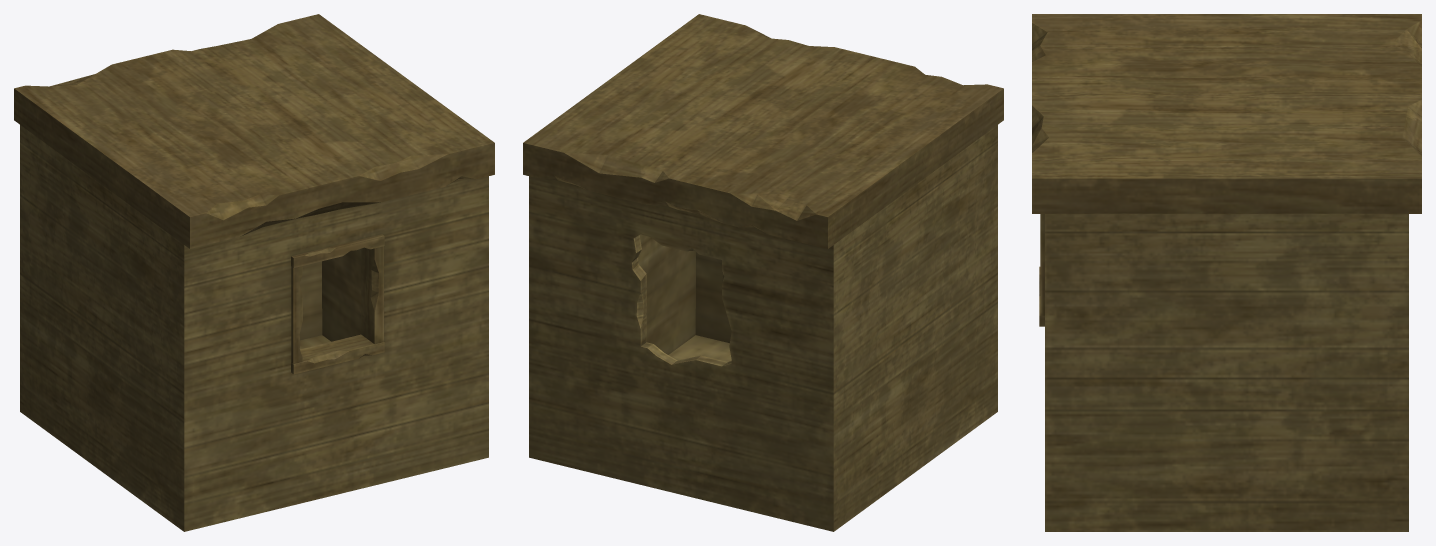
File: sb_obj_outdoor029_house03_wall03_ruins.fbx
3 views of the same model, side by side, from view 1: azimuth 30°, elevation 25°; view 2: azimuth 150°, elevation 25°; view 3: azimuth 270°, elevation 25° (orthographic). The views are drawn at different scales.
Visible parts, largest first — view 1: sb_obj_outdoor029_house03_wall03_ruins; view 2: sb_obj_outdoor029_house03_wall03_ruins; view 3: sb_obj_outdoor029_house03_wall03_ruins.
Part boxes in pixels (<box>): sb_obj_outdoor029_house03_wall03_ruins: <box>14,14,494,531</box>; sb_obj_outdoor029_house03_wall03_ruins: <box>523,14,1003,531</box>; sb_obj_outdoor029_house03_wall03_ruins: <box>1032,14,1421,531</box>.
Bounding box in the file's own units: 3 × 3 × 3.
Materials: 1 (1 with a texture image).
